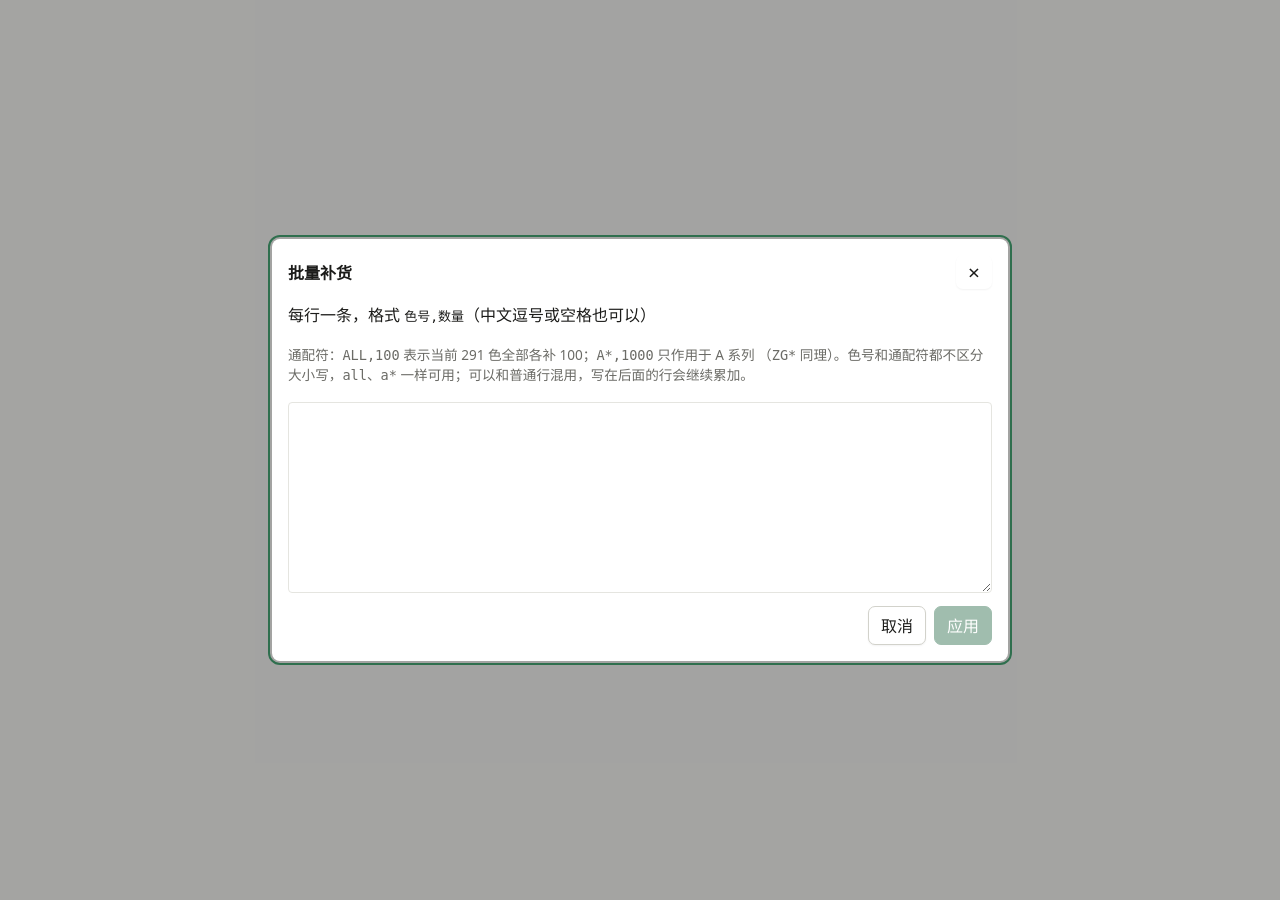
Test: BatchDialog › applies and toasts the resulting diff
Type "A1,20" into the text box named "批量输入" at (640, 498), box 288,402 -> 992,593
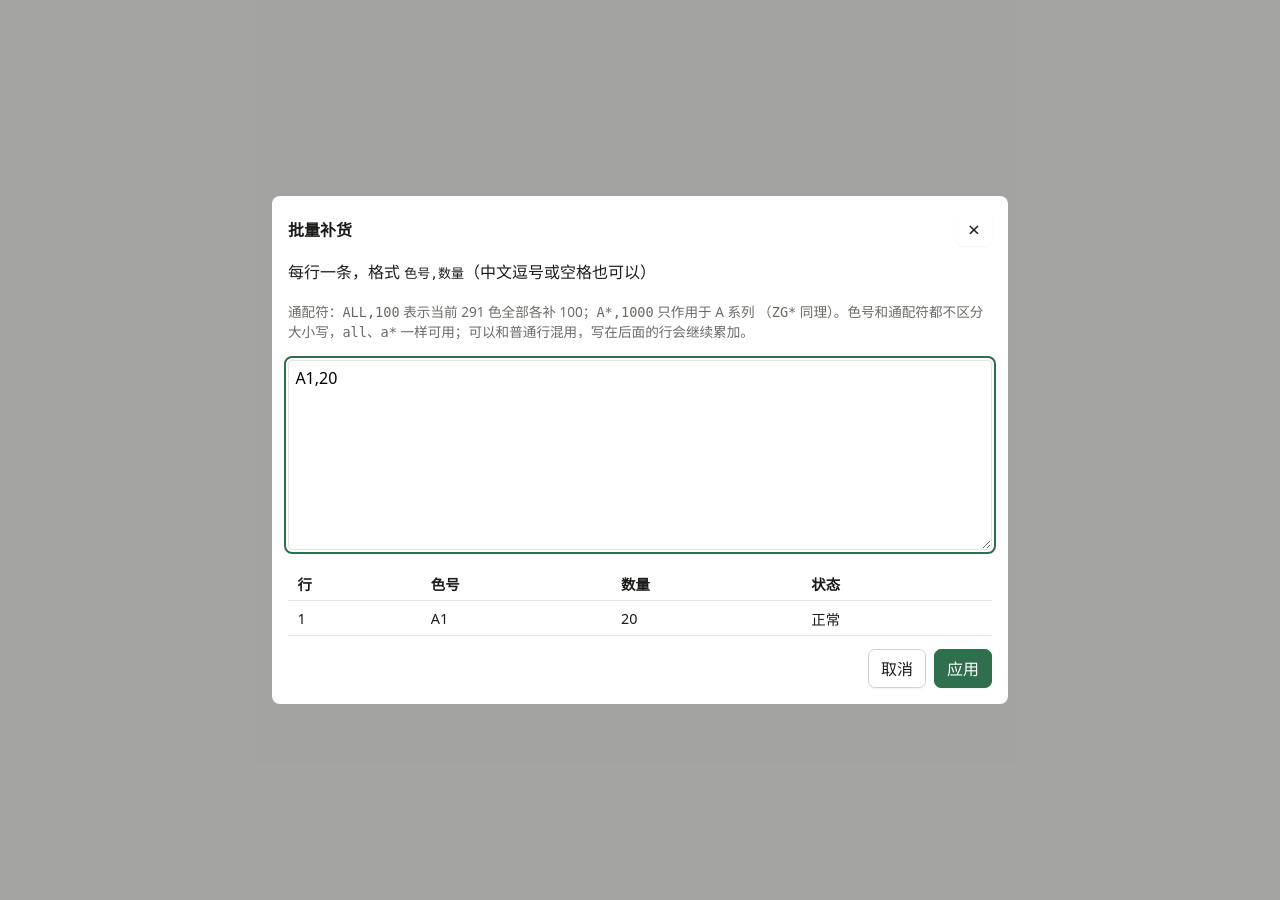
Click the button "应用" at (963, 668), box 934,649 -> 992,688
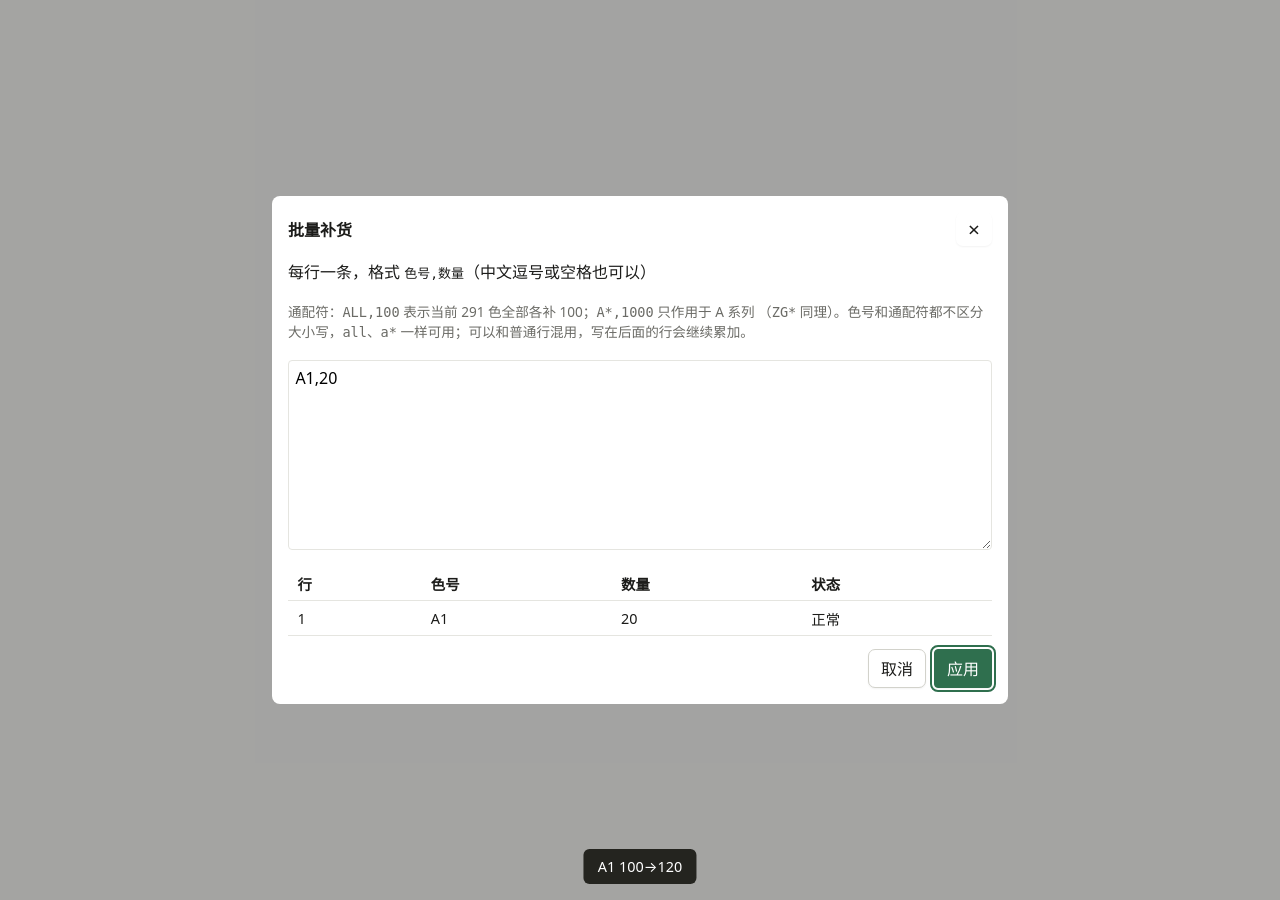
Check: the message reads "A1 100→120", box 598,857 -> 682,876
